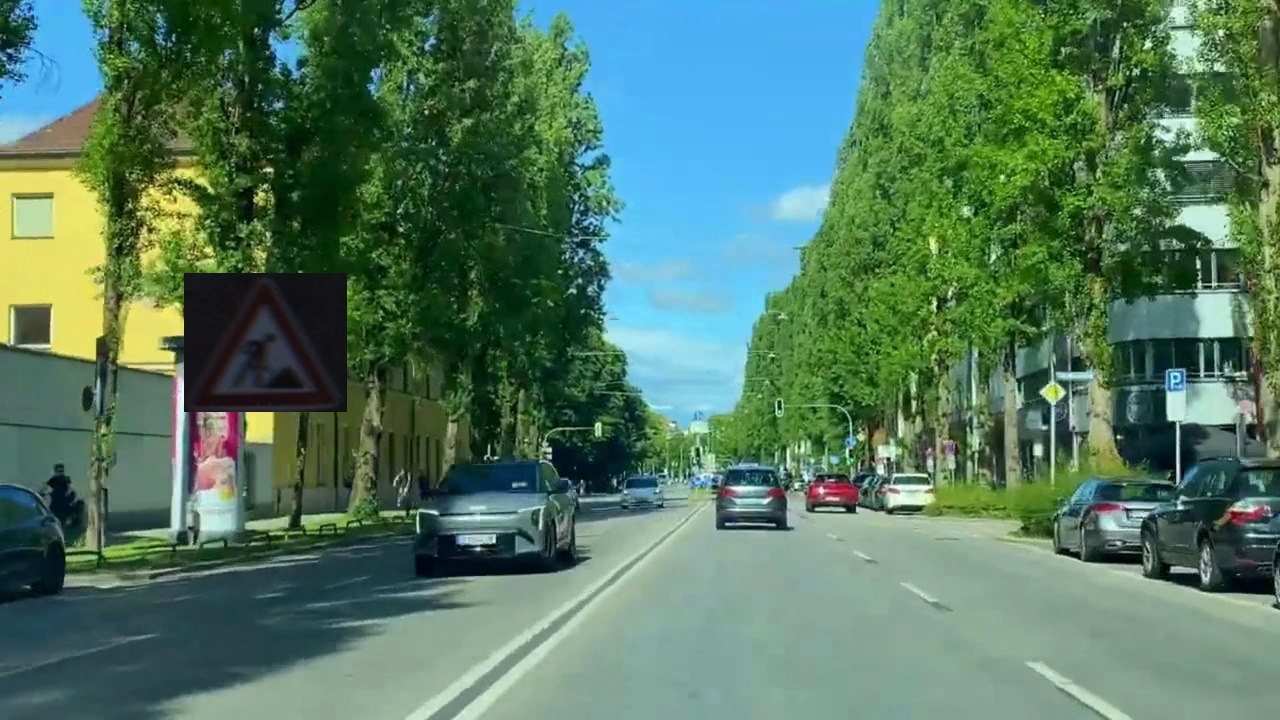Road work: (184, 273, 347, 412)
